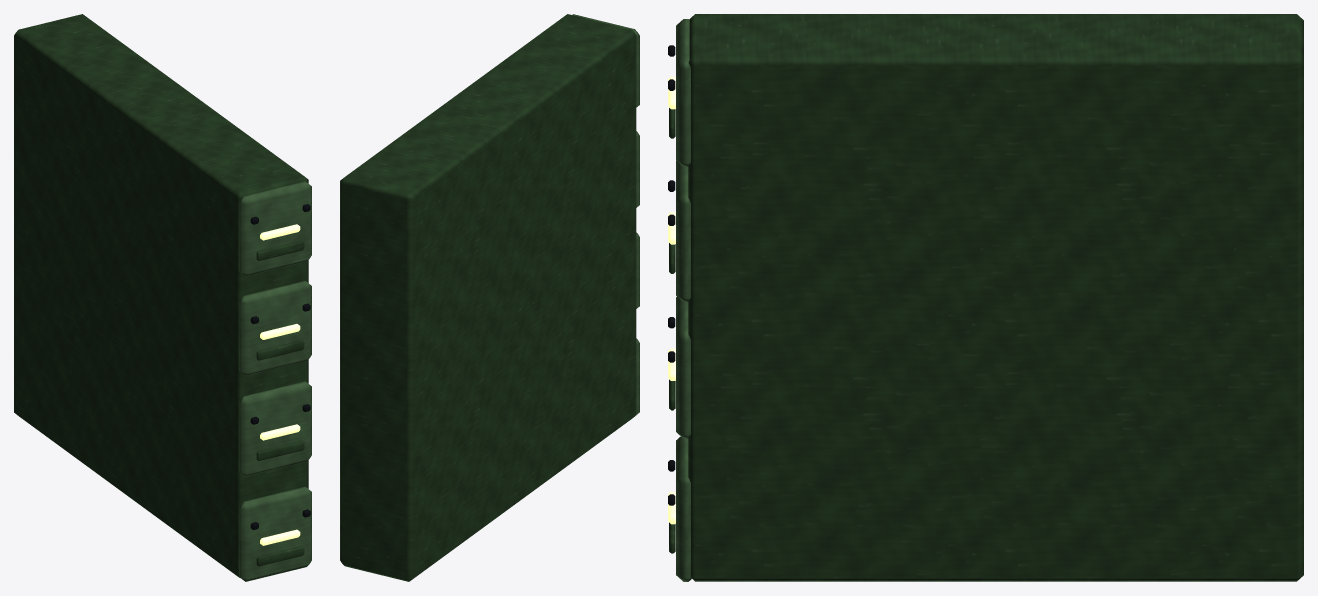
File: machine_jungle_wall.glb
3 renders of one model, left to right at view 1: azimuth 30°, elevation 25°; view 2: azimuth 150°, elevation 25°; view 3: azimuth 270°, elevation 25°, orthographic. The views are drawn at different scales.
Visible parts, largest first — view 1: machine_jungle_wall - machine_jungle panels, machine_jungle_wall - machine_jungle trim, machine_jungle_wall - machine_jungle accents, machine_jungle_wall - Recessed iron; view 2: machine_jungle_wall - machine_jungle panels, machine_jungle_wall - machine_jungle trim; view 3: machine_jungle_wall - machine_jungle panels, machine_jungle_wall - machine_jungle trim.
Part boxes in pixels (bbox=[...]): machine_jungle_wall - machine_jungle panels: bbox=[14, 14, 308, 577]; machine_jungle_wall - machine_jungle trim: bbox=[239, 181, 311, 581]; machine_jungle_wall - machine_jungle accents: bbox=[260, 224, 300, 545]; machine_jungle_wall - Recessed iron: bbox=[250, 204, 310, 529]; machine_jungle_wall - machine_jungle panels: bbox=[340, 14, 636, 581]; machine_jungle_wall - machine_jungle trim: bbox=[572, 14, 639, 414]; machine_jungle_wall - machine_jungle panels: bbox=[669, 14, 1303, 581]; machine_jungle_wall - machine_jungle trim: bbox=[676, 19, 691, 581].
Size of the model in its own units: 0.79 by 4.01 by 4.39.
4 materials, 3 textured.
